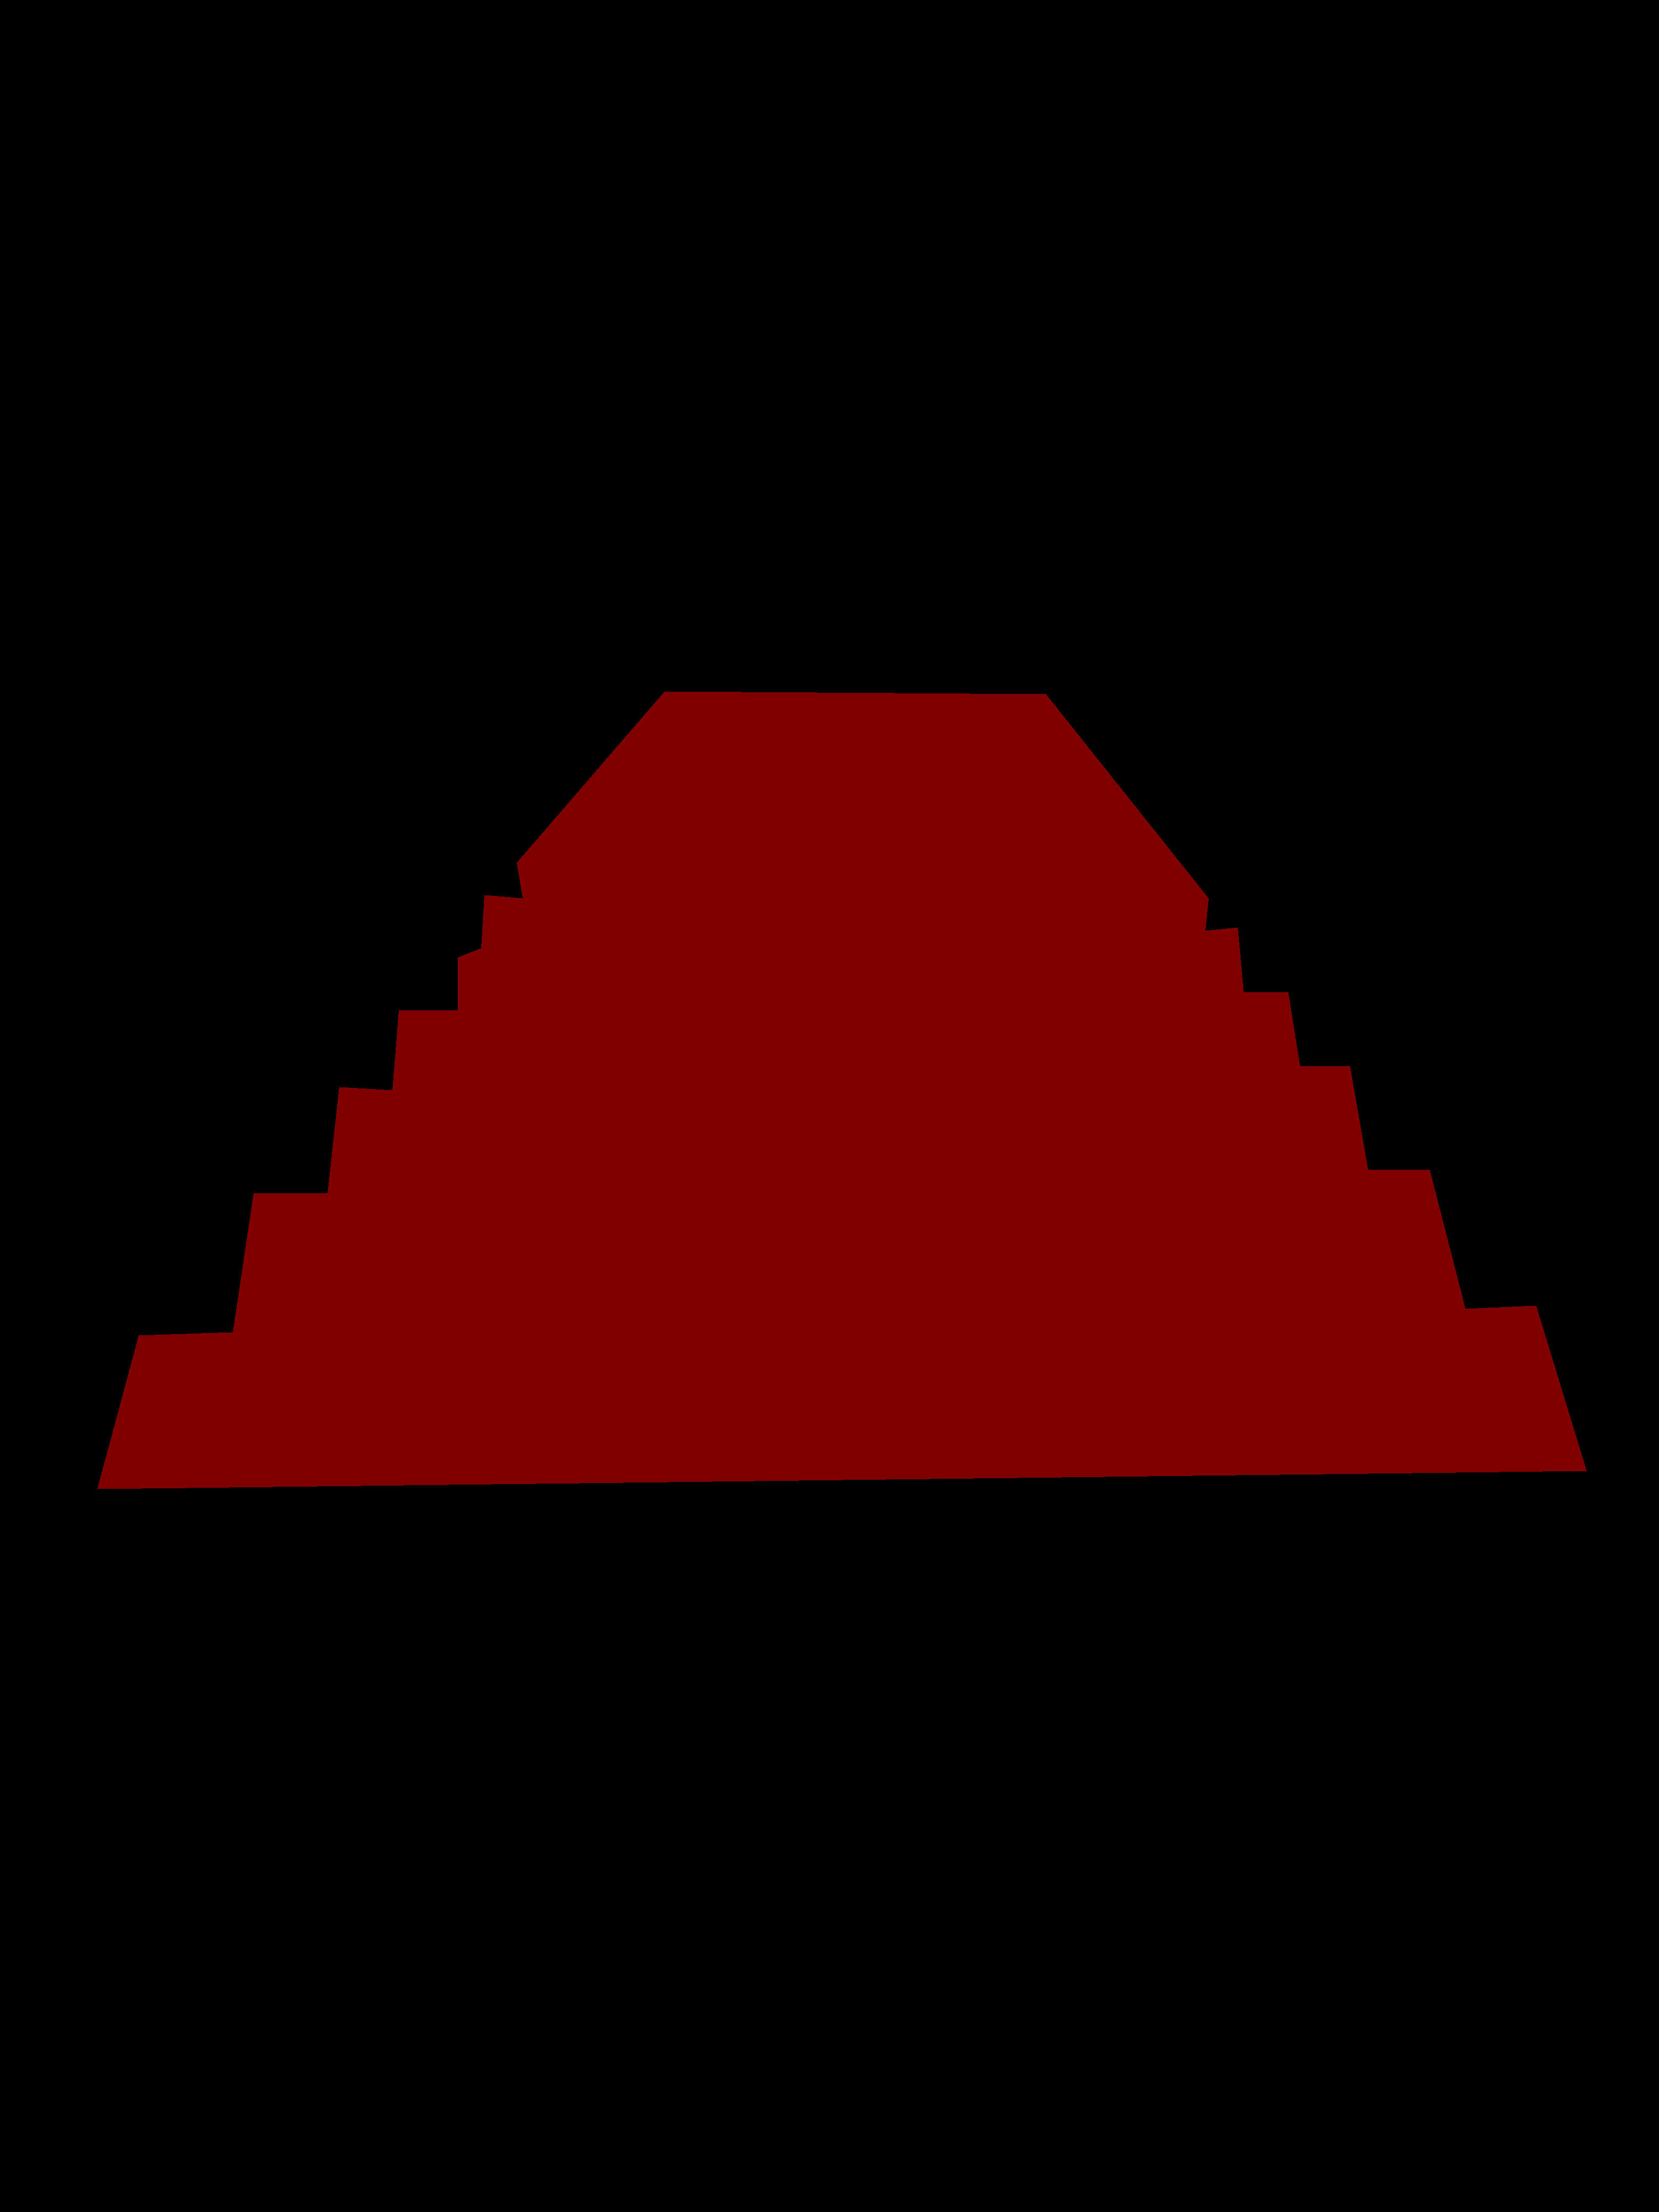stair: (98, 691, 1586, 1489)
